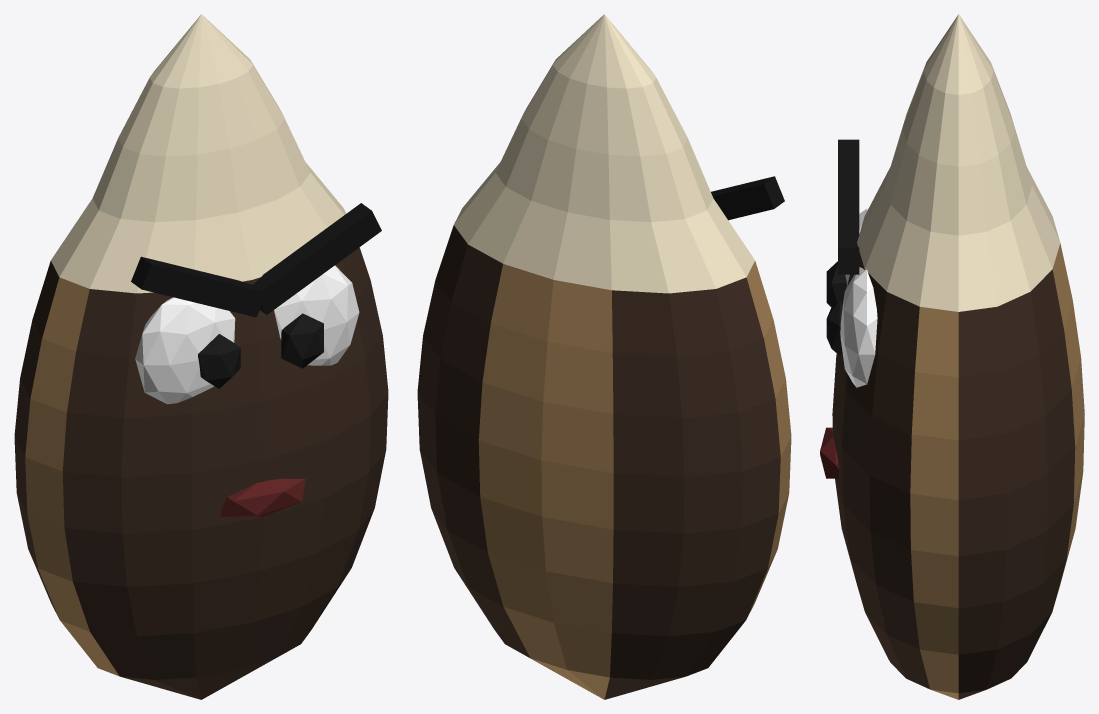
File: seed_brute.glb
3 renders of one model, left to right at view 1: azimuth 30°, elevation 25°; view 2: azimuth 150°, elevation 25°; view 3: azimuth 270°, elevation 25°, orthographic.
Parts seen in each view (by area): view 1: brute_Shell, brute_Eye, brute_Brow, brute_Pupil, brute_Mouth; view 2: brute_Shell, brute_Brow; view 3: brute_Shell, brute_Eye, brute_Brow, brute_Pupil, brute_Mouth.
Boxes of the visible parts, x1,y1,x2,y2 form: brute_Shell: (14,14,388,699); brute_Eye: (135,265,359,404); brute_Brow: (131,203,381,317); brute_Pupil: (198,313,323,388); brute_Mouth: (220,478,305,517); brute_Shell: (417,14,791,699); brute_Brow: (711,176,784,220); brute_Shell: (832,14,1084,699); brute_Eye: (840,209,877,387); brute_Brow: (838,139,859,274); brute_Pupil: (826,261,846,355); brute_Mouth: (820,427,838,478).
Size of the model in its own units: 1.4 by 2.6 by 0.9092.
1 material, 1 textured.
